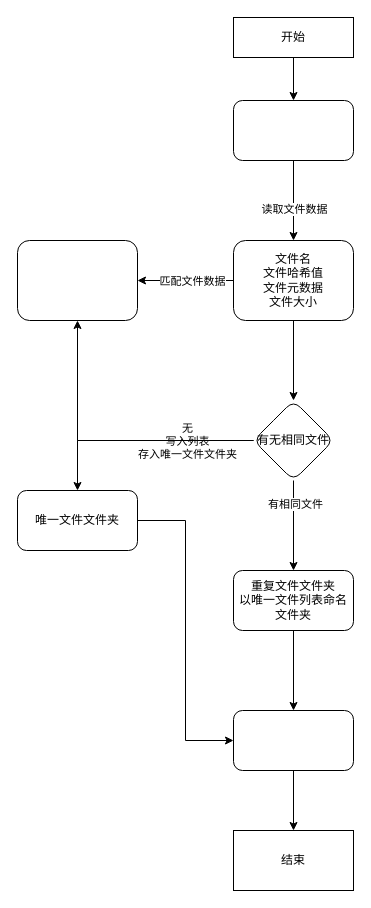
The diagram is 371 pixels wide and 908 high, and some of its shapes have lost their labels. Each missing label, with the box of its shape:
1.xxx 2.xxx ... n.xxx: (16, 240, 138, 320)
删除源文件: (232, 710, 354, 770)
原始文件夹: (232, 100, 354, 160)
